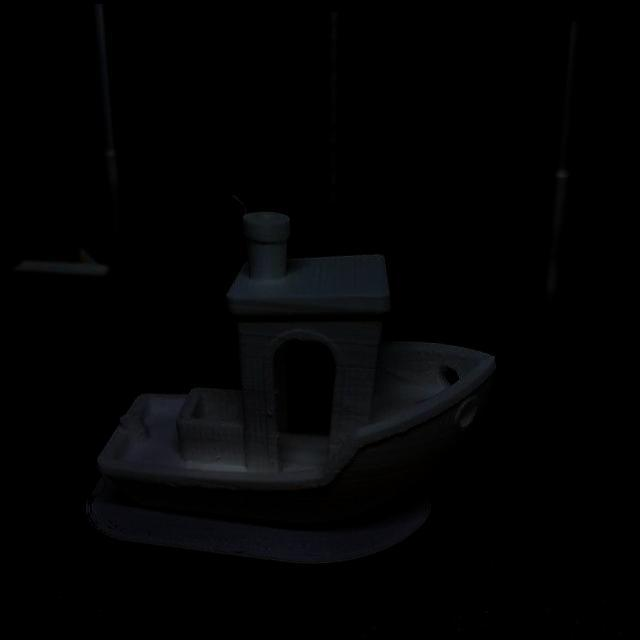stringing: (288, 344, 333, 372), (278, 388, 330, 402)
